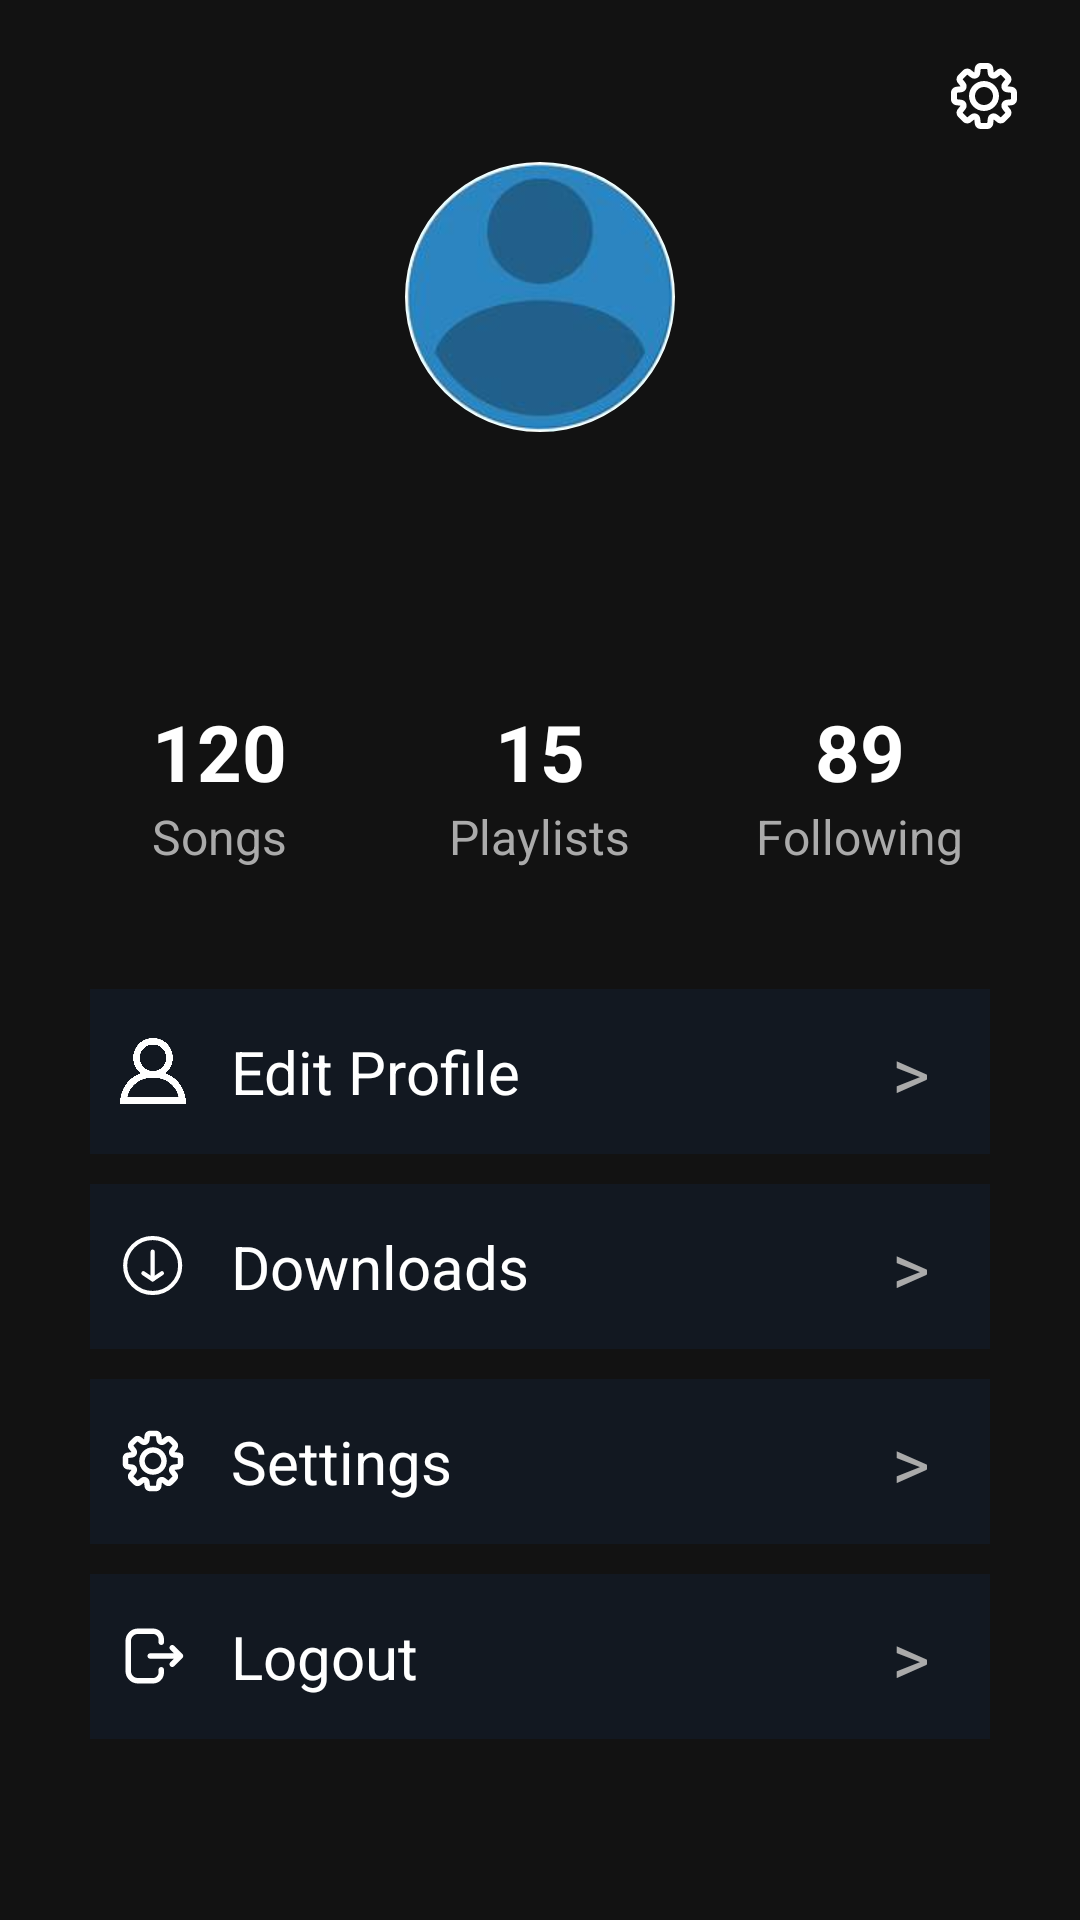

Named icons in this screenshot (1080*1920) and their bounding boxes, (x1, y1, x2, y2):
download circle: (123, 1236, 183, 1295)
setting line: (951, 63, 1017, 129), (122, 1430, 184, 1492)
